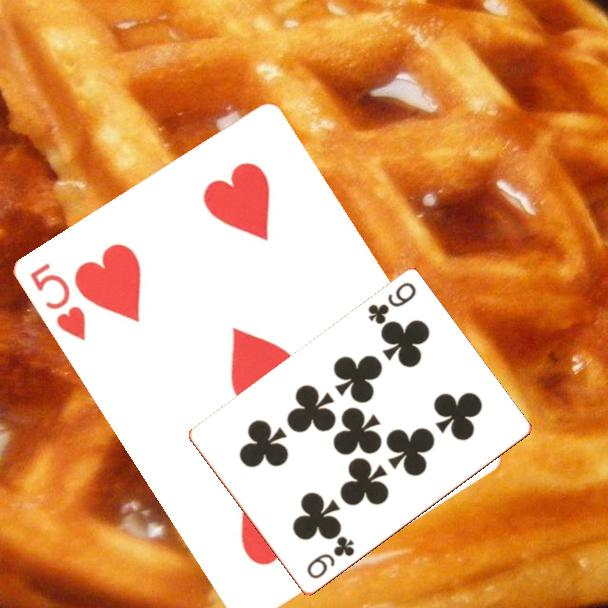c09: (364, 279, 419, 328), (303, 533, 357, 582)
h05: (26, 259, 90, 344)
